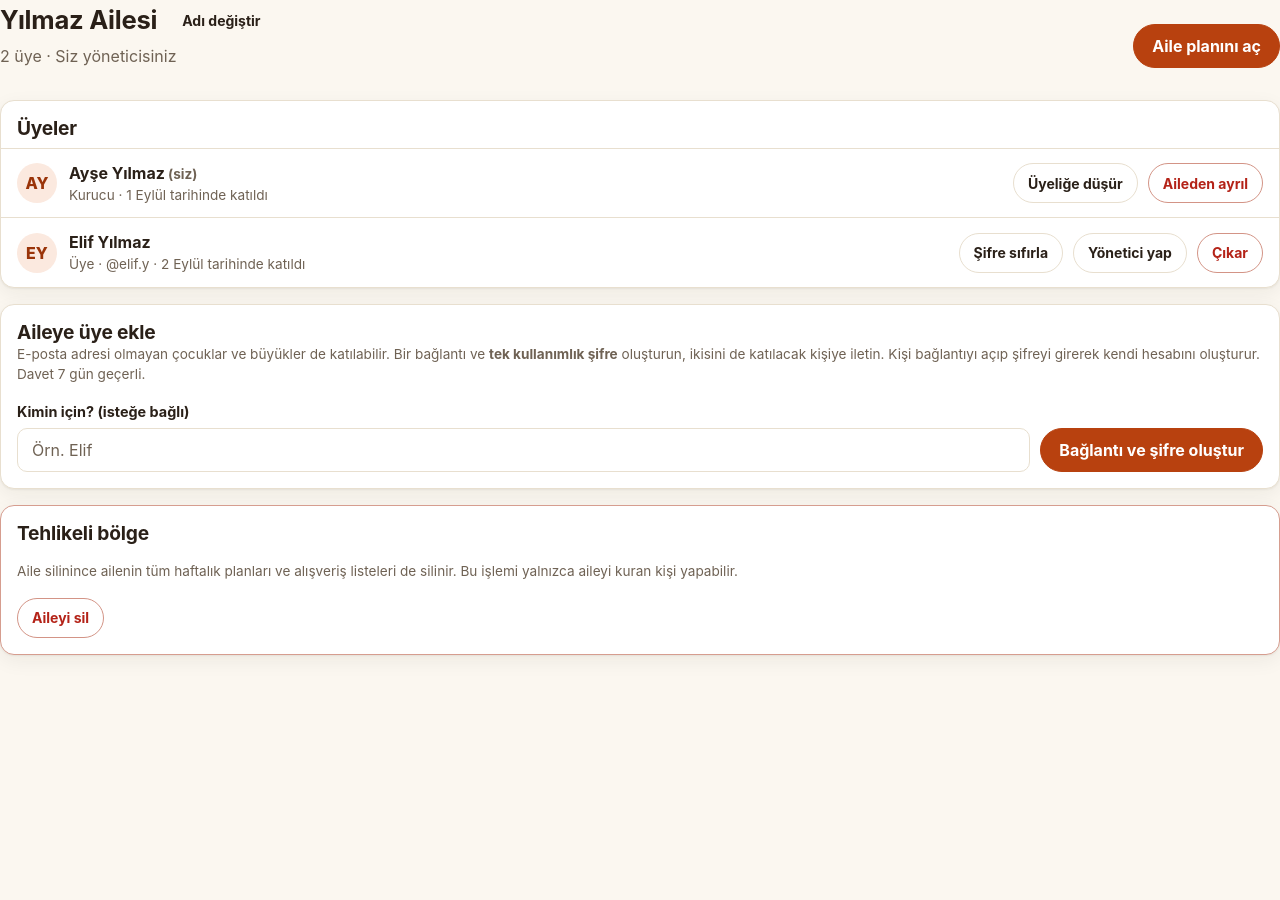
Test: FamilyDetailPage: bağlantı ve tek kullanımlık şifre › davet oluşturunca bağlantıyı ve şifreyi (3+3 gruplu) gösterir
Type "Elif" into the field labelled "Kimin için? (isteğe bağlı)" at (524, 450), box [17,428,1030,472]
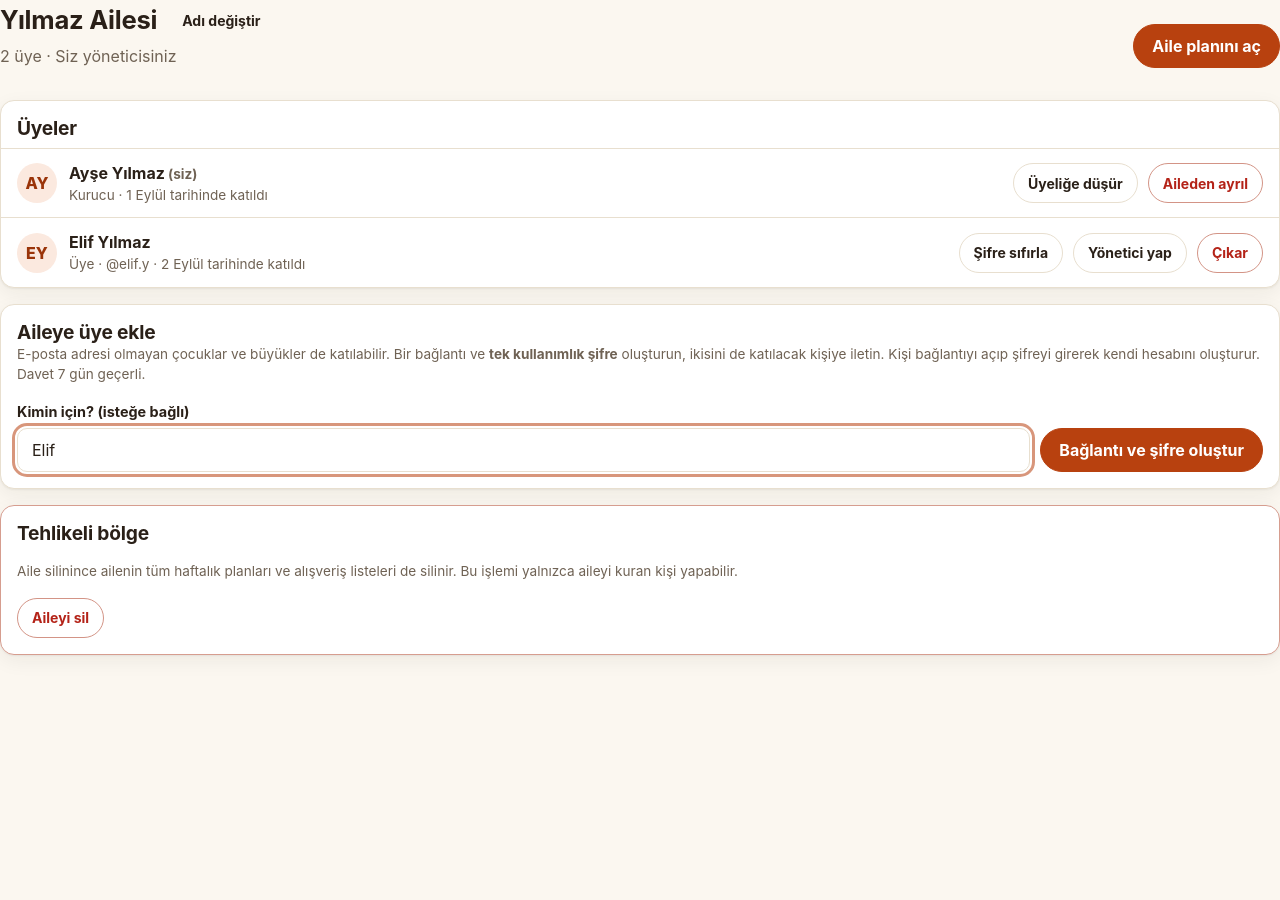
Click the button "Bağlantı ve şifre oluştur" at (1152, 450), box [1040,428,1263,472]
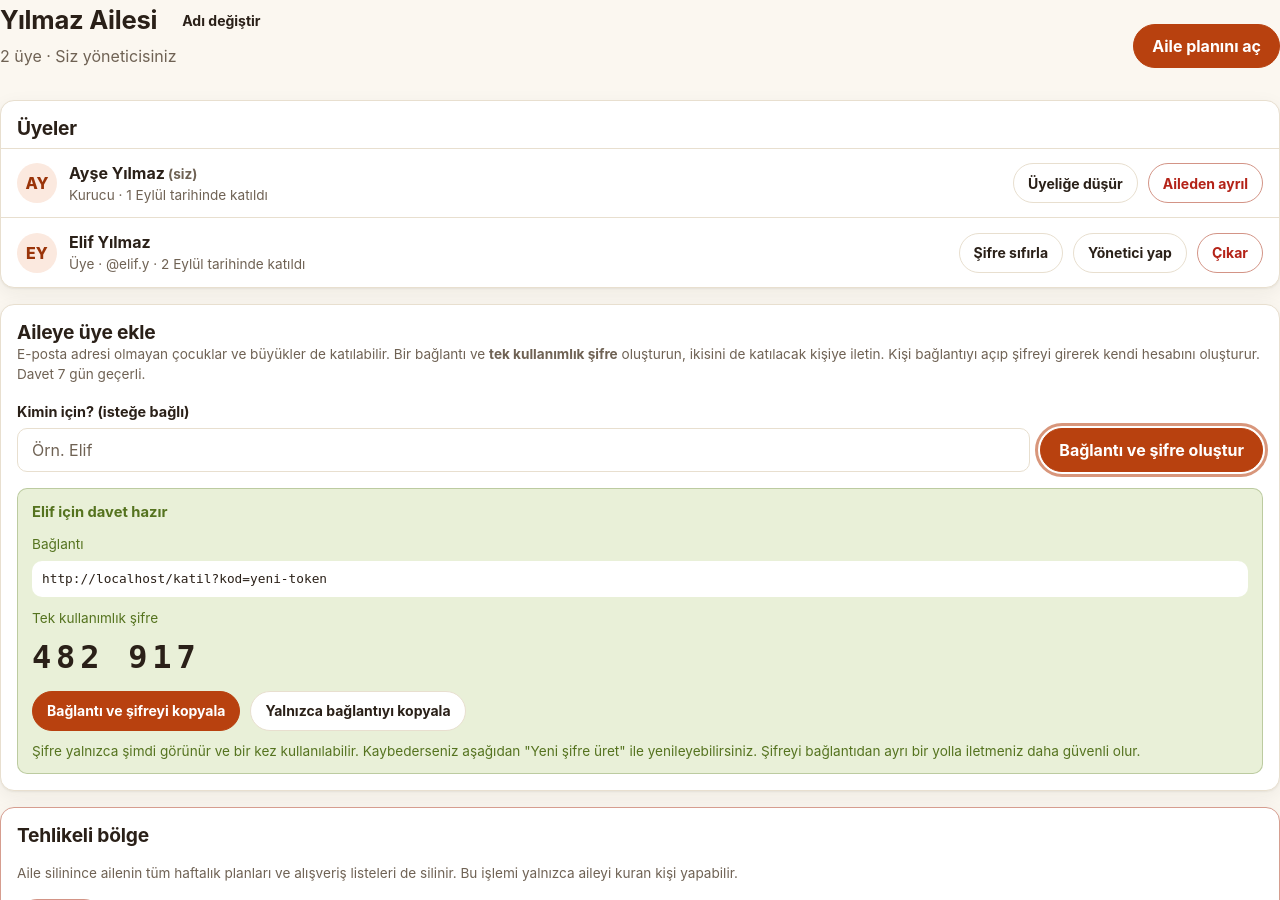
Expected: the text named "Tek kullanımlık şifre" reads "482 917", [32,638,200,676]
Expected: the text "Elif için davet hazır" is shown, [32,503,168,521]
